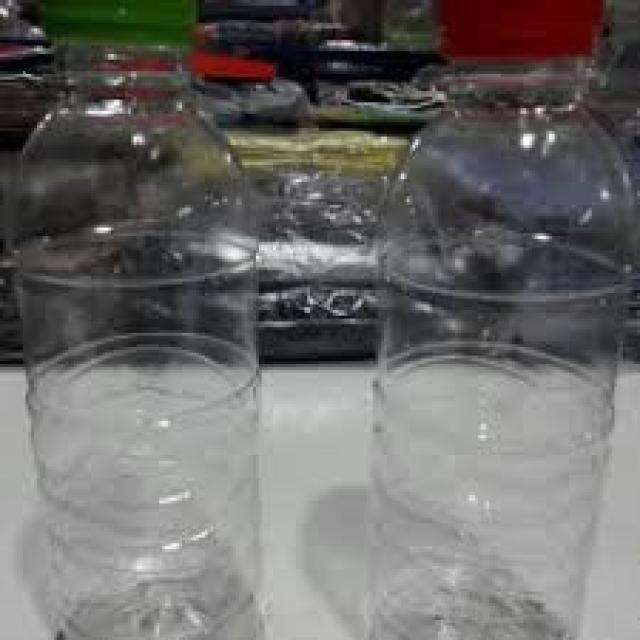good: (7, 7, 282, 636), (375, 3, 626, 638)
